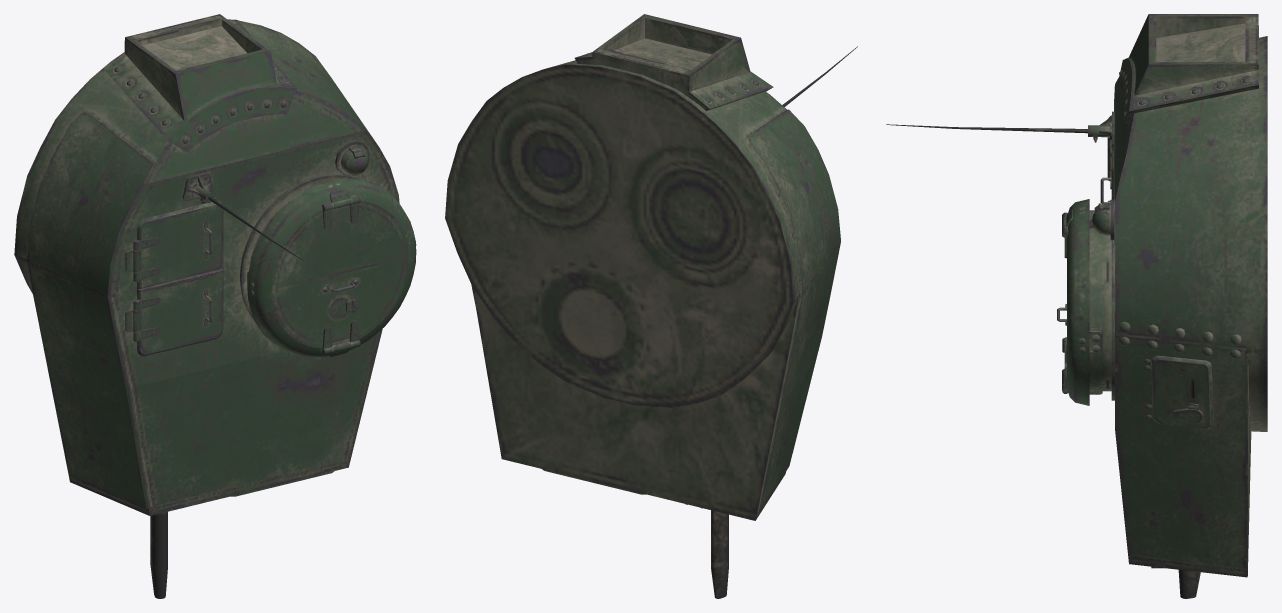
The model's file is Turret_02.glb.
The picture shows the model from 3 angles, left to right: view 1: azimuth 30°, elevation 25°; view 2: azimuth 150°, elevation 25°; view 3: azimuth 270°, elevation 25°; orthographic projection. The views are drawn at different scales.
Parts seen in each view (by area): view 1: set_0_group_0; view 2: set_0_group_0; view 3: set_0_group_0.
Boxes of the visible parts, box(x1,y1,x2,y2) form: set_0_group_0: box(14, 14, 416, 598); set_0_group_0: box(445, 14, 857, 598); set_0_group_0: box(886, 14, 1267, 598).
Bounding box in the file's own units: 1.51 × 2.25 × 1.34.
Materials: 1 (1 with a texture image).
